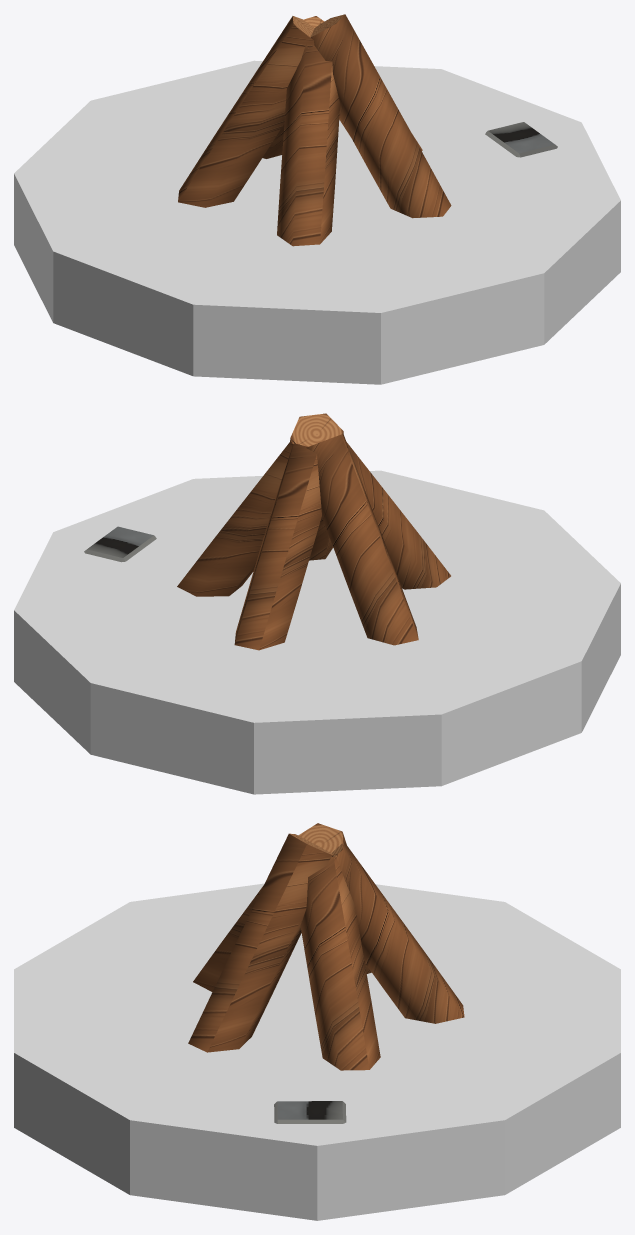
Rendered from SM_Campfire.fbx.
The picture shows the model from 3 angles, top to bottom: view 1: azimuth 30°, elevation 25°; view 2: azimuth 150°, elevation 25°; view 3: azimuth 270°, elevation 25°; orthographic projection. The views are drawn at different scales.
Visible parts, largest first — view 1: Campfire_Col0, Campfire_Body; view 2: Campfire_Col0, Campfire_Body; view 3: Campfire_Col0, Campfire_Body.
Part boxes in pixels (bbox=[...]): Campfire_Col0: bbox=[14, 60, 620, 384]; Campfire_Body: bbox=[178, 14, 557, 246]; Campfire_Col0: bbox=[14, 470, 620, 794]; Campfire_Body: bbox=[84, 413, 450, 650]; Campfire_Col0: bbox=[14, 883, 620, 1220]; Campfire_Body: bbox=[188, 823, 464, 1123].
Size of the model in its own units: 5.4 by 2.48 by 5.14.
